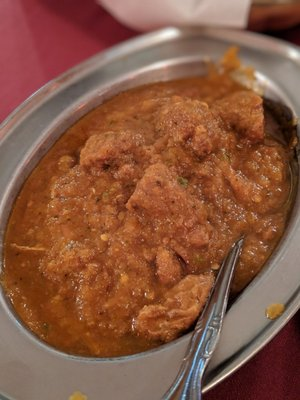salad: (159, 237, 243, 400)
sushi: (1, 12, 299, 383), (0, 117, 300, 399)
